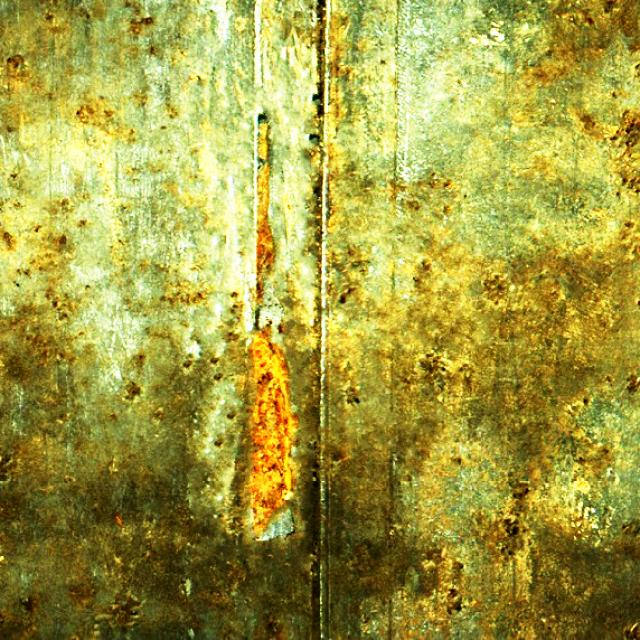Corrosion: (248, 324, 299, 538), (255, 117, 276, 308)
